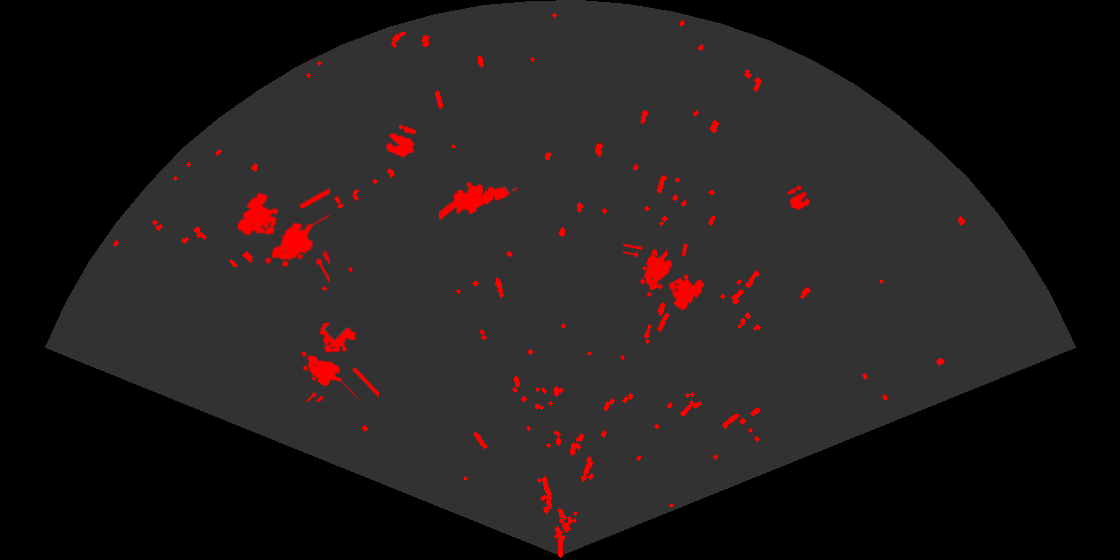ball: (384, 123, 418, 159), (786, 184, 812, 212)
cage: (236, 186, 330, 285), (300, 321, 379, 402), (623, 244, 706, 312)
frogman: (439, 181, 519, 222)
